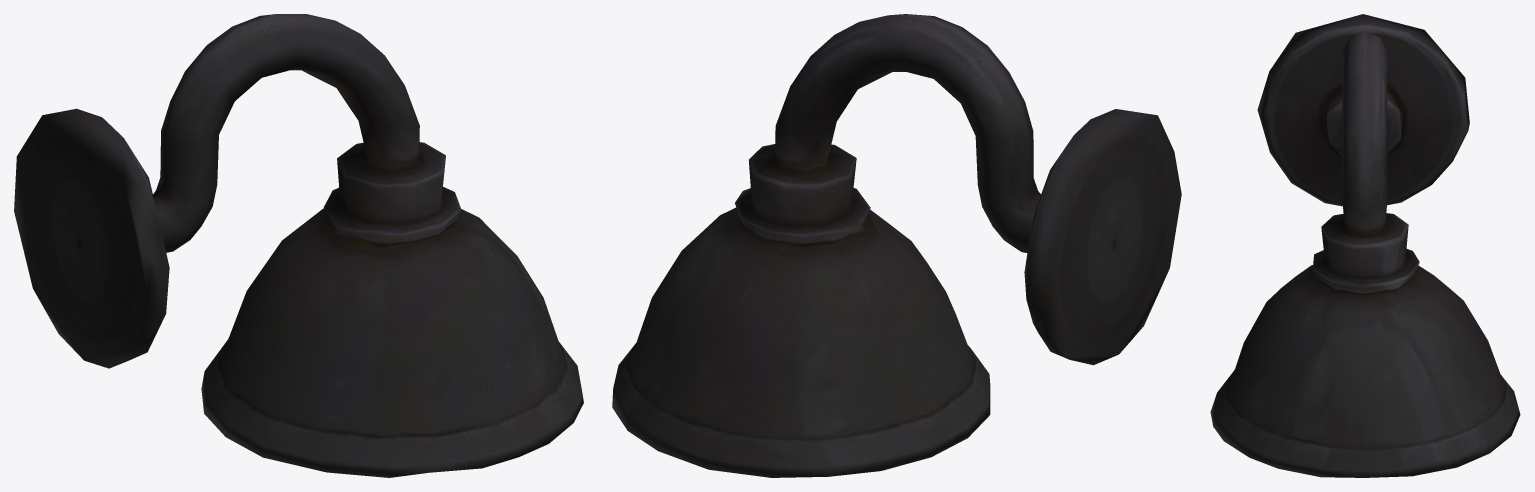
Rendered from exterior-light.glb.
3 renders of one model, left to right at view 1: azimuth 30°, elevation 25°; view 2: azimuth 150°, elevation 25°; view 3: azimuth 270°, elevation 25°, orthographic. The views are drawn at different scales.
Parts seen in each view (by area): view 1: meshy-exterior-light; view 2: meshy-exterior-light; view 3: meshy-exterior-light.
Boxes of the visible parts, left/top/right/bottom form: meshy-exterior-light: left=14, top=14, right=583, bottom=477; meshy-exterior-light: left=612, top=14, right=1181, bottom=477; meshy-exterior-light: left=1210, top=14, right=1520, bottom=477.
Size of the model in its own units: 0.65 by 0.5636 by 0.4624.
1 material, 1 textured.
